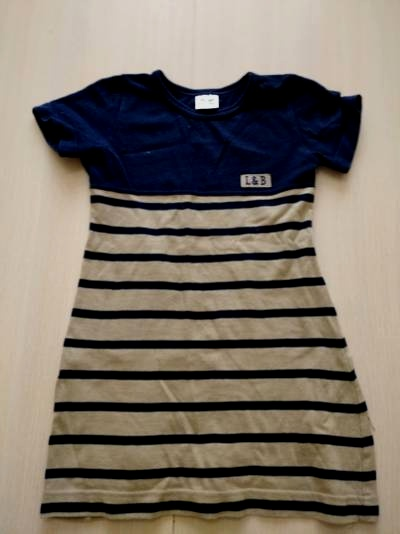Dress: (0, 54, 380, 526)
